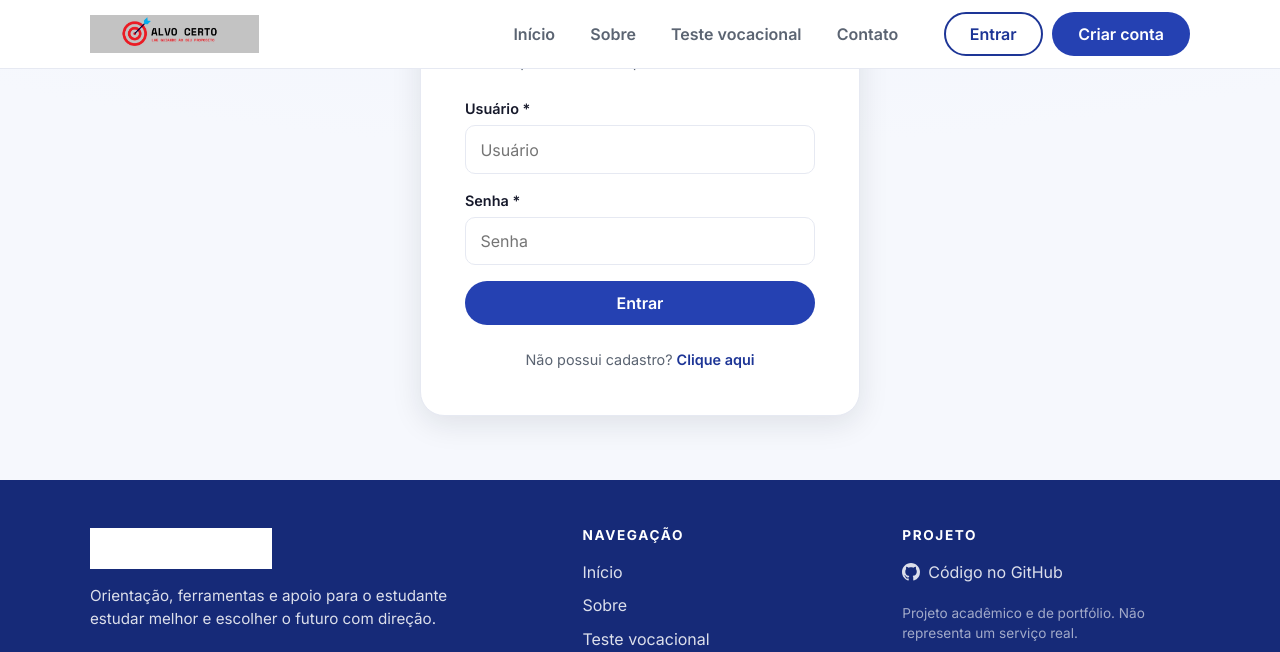
Scenario: Login › vai para o cadastro pelo link
The width and height of the screenshot is (1280, 652).
(page scrolled)
Expected: the text "Não possui cadastro?" is shown, [525,351,676,368]
What coordinates should you click on to do the following:
click the link "Clique aqui"
I would click on:
 (716, 360)
Its box is [677,351,755,368].
(page scrolled)
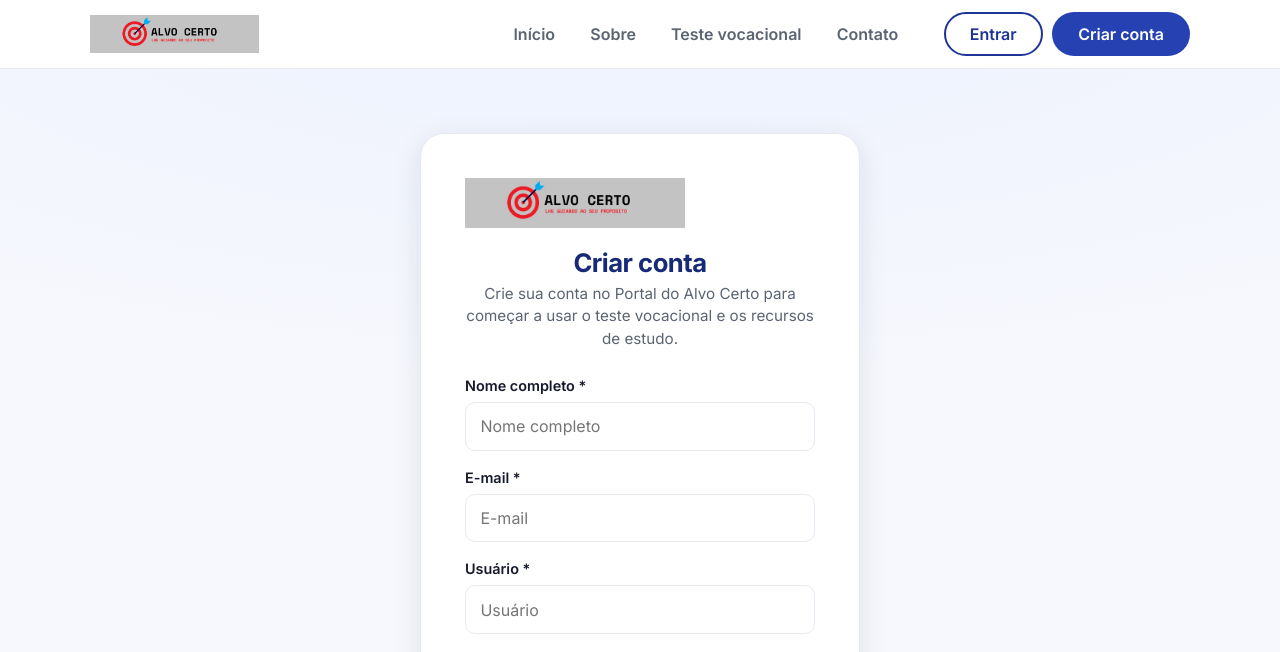
Result: the heading "Criar conta" is shown at [573,247,707,278]
